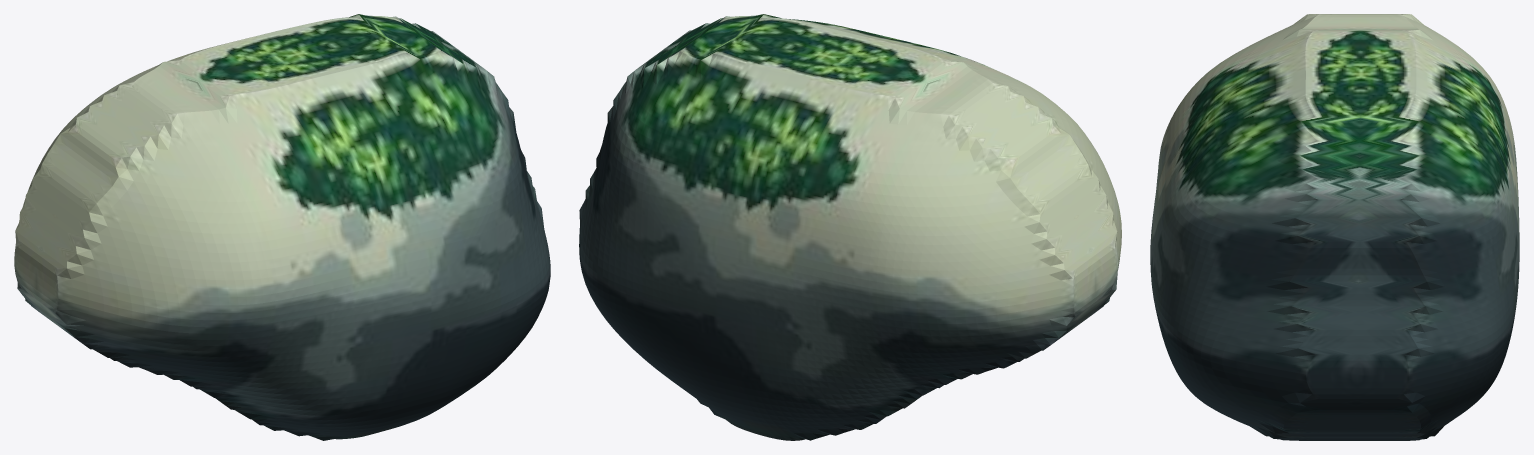
File: stone_sun.glb
3 renders of one model, left to right at view 1: azimuth 30°, elevation 25°; view 2: azimuth 150°, elevation 25°; view 3: azimuth 270°, elevation 25°, orthographic. The views are drawn at different scales.
Parts seen in each view (by area): view 1: geometry_0; view 2: geometry_0; view 3: geometry_0.
Part boxes in pixels (<box>): geometry_0: <box>14,14,550,440</box>; geometry_0: <box>579,14,1121,440</box>; geometry_0: <box>1150,14,1519,440</box>.
Size of the model in its own units: 2.55 by 1.76 by 1.77.
1 material, 1 textured.
